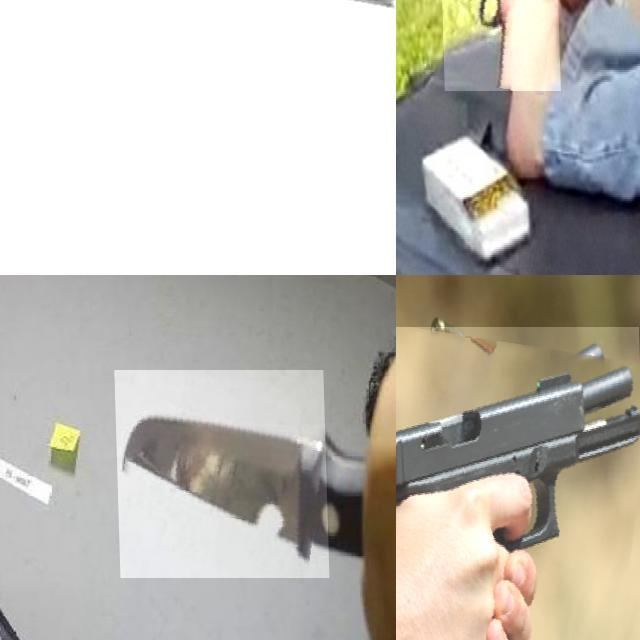-: (0, 0, 396, 166), (112, 370, 326, 578)
gun-knife-thesis - v11 Yolov5 augmented: (396, 326, 640, 640), (439, 0, 559, 91)
